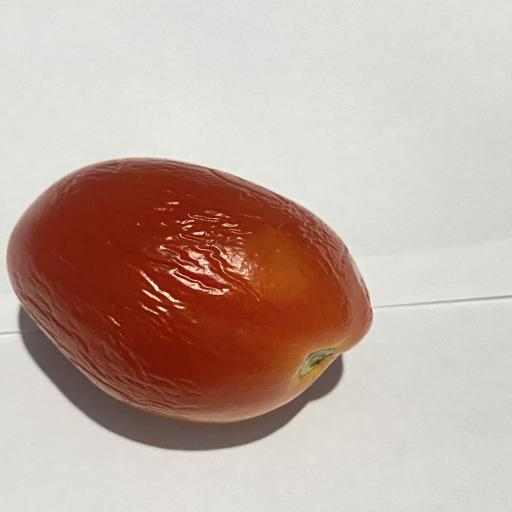spoiled: (8, 159, 371, 422)
